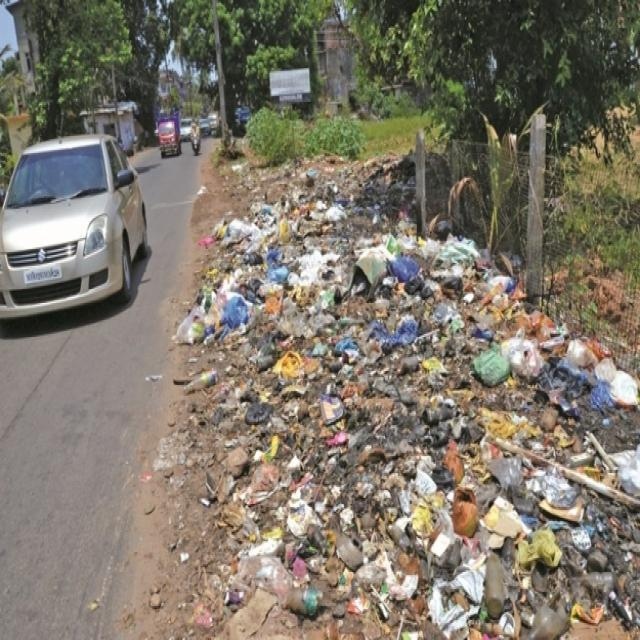trash: (171, 200, 640, 634)
